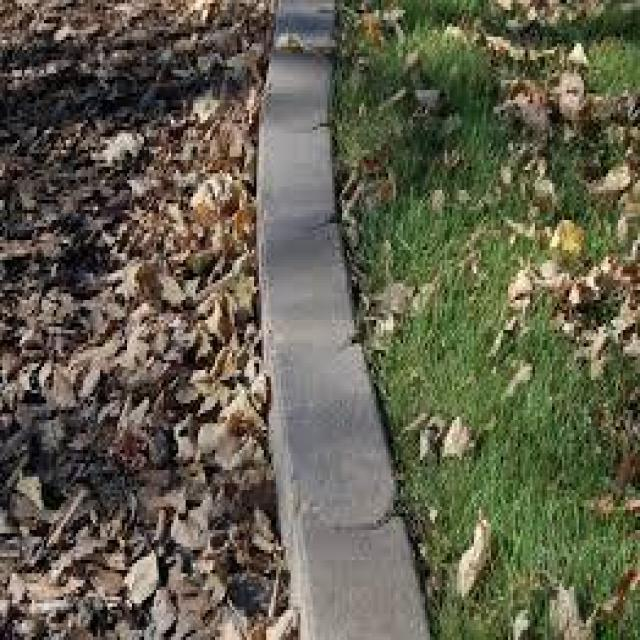curb: (256, 5, 409, 640)
